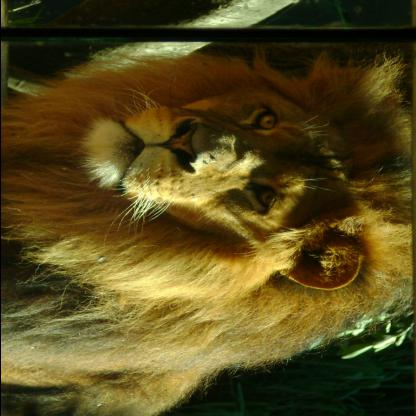lion: (56, 52, 414, 314)
